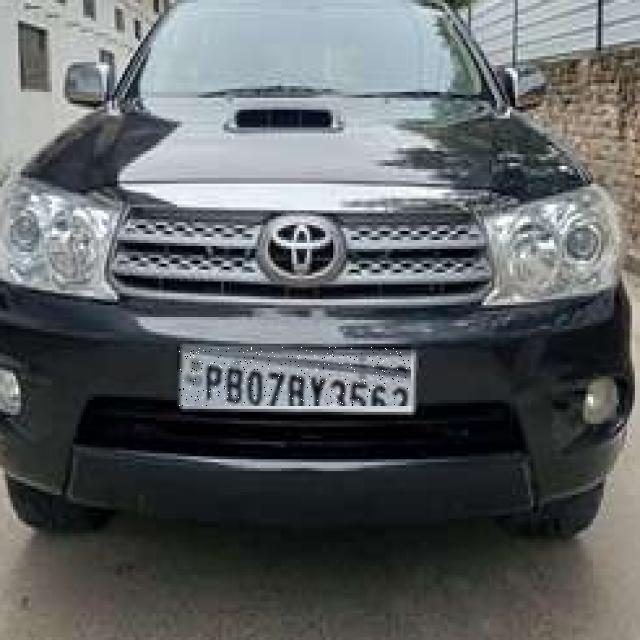Plate: (178, 348, 412, 407)
